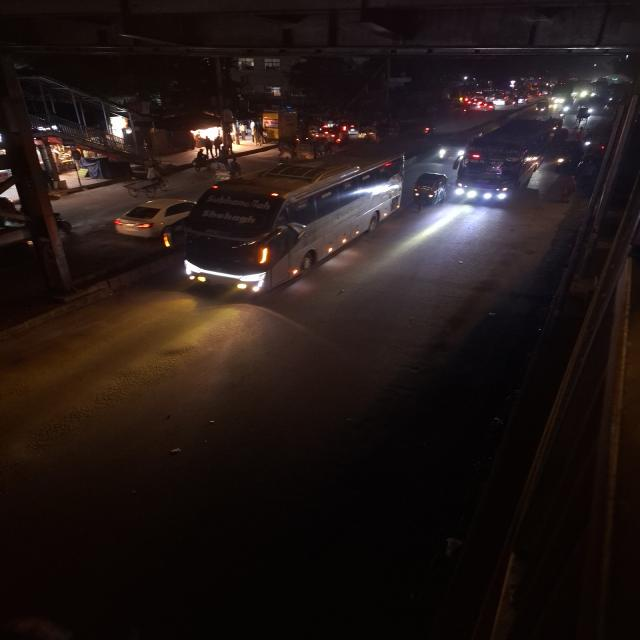bus: (179, 146, 406, 292), (454, 117, 557, 207)
car: (110, 197, 195, 237)
cng: (411, 169, 449, 209), (553, 140, 585, 171)
motorcycle: (210, 161, 236, 182), (419, 124, 437, 138)
rickshaw: (120, 172, 171, 199)
